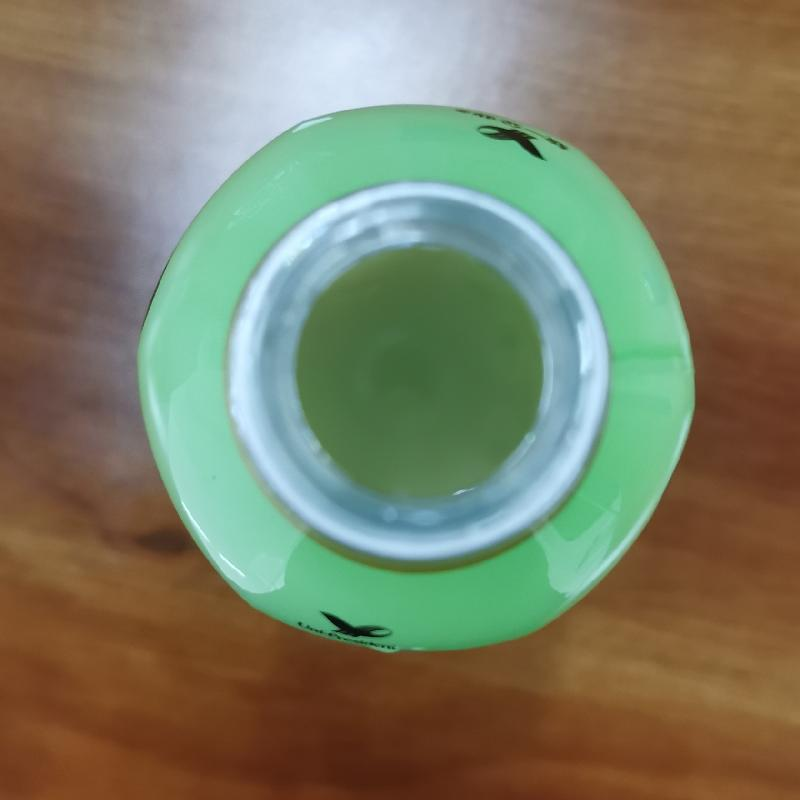bottles: (129, 103, 706, 668)
